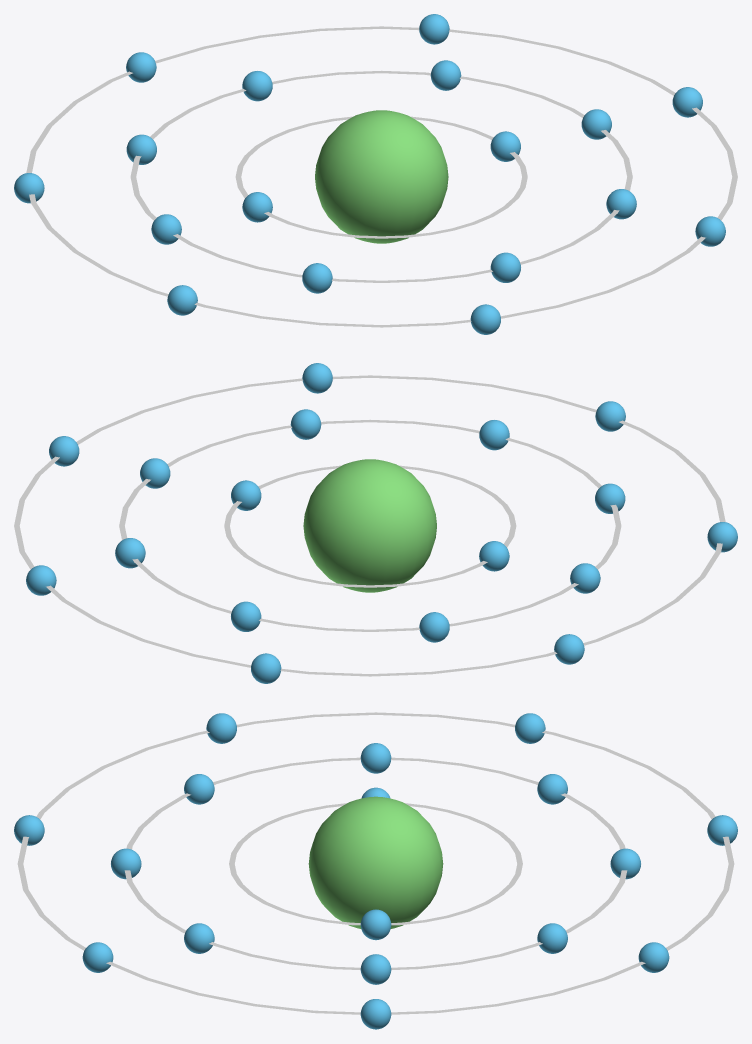
File: chlorine_atom.glb
3 renders of one model, top to bottom at view 1: azimuth 30°, elevation 25°; view 2: azimuth 150°, elevation 25°; view 3: azimuth 270°, elevation 25°, orthographic.
Parts seen in each view (by area): view 1: nucleus_node, shell_ring_2, shell_ring_1, shell_ring_0, electron_node_1_7, electron_node_2_6, electron_node_1_6, electron_node_1_3, electron_node_2_2, electron_node_2_3, electron_node_1_2, electron_node_2_5 (+9 smaller); view 2: nucleus_node, shell_ring_2, shell_ring_1, shell_ring_0, electron_node_1_1, electron_node_2_1, electron_node_1_2, electron_node_1_5, electron_node_2_5, electron_node_2_4, electron_node_1_6, electron_node_2_2 (+9 smaller); view 3: nucleus_node, shell_ring_2, shell_ring_1, shell_ring_0, electron_node_0_0, electron_node_1_0, electron_node_1_4, electron_node_2_0, electron_node_2_3, electron_node_2_4, electron_node_2_1, electron_node_2_6 (+8 smaller).
Part boxes in pixels (x1,y1,x2,y2): nucleus_node: [315, 110, 448, 243]; shell_ring_2: [26, 26, 737, 327]; shell_ring_1: [130, 70, 632, 282]; shell_ring_0: [235, 116, 527, 238]; electron_node_1_7: [430, 60, 461, 90]; electron_node_2_6: [419, 14, 449, 44]; electron_node_1_6: [242, 71, 272, 101]; electron_node_1_3: [302, 263, 332, 293]; electron_node_2_2: [470, 304, 500, 334]; electron_node_2_3: [167, 285, 197, 315]; electron_node_1_2: [490, 252, 520, 282]; electron_node_2_5: [126, 52, 156, 82]; nucleus_node: [303, 459, 436, 592]; shell_ring_2: [14, 375, 725, 676]; shell_ring_1: [119, 419, 621, 631]; shell_ring_0: [224, 465, 516, 587]; electron_node_1_1: [290, 409, 321, 439]; electron_node_2_1: [302, 363, 332, 393]; electron_node_1_2: [479, 420, 509, 450]; electron_node_1_5: [419, 612, 449, 642]; electron_node_2_5: [251, 653, 281, 683]; electron_node_2_4: [554, 634, 584, 664]; electron_node_1_6: [231, 601, 261, 631]; electron_node_2_2: [595, 401, 625, 431]; nucleus_node: [308, 796, 443, 928]; shell_ring_2: [17, 712, 734, 1014]; shell_ring_1: [124, 757, 627, 969]; shell_ring_0: [229, 803, 522, 925]; electron_node_0_0: [360, 909, 391, 940]; electron_node_1_0: [360, 954, 391, 984]; electron_node_1_4: [360, 743, 391, 773]; electron_node_2_0: [360, 999, 391, 1029]; electron_node_2_3: [206, 713, 236, 743]; electron_node_2_4: [515, 713, 545, 743]; electron_node_2_1: [82, 942, 113, 972]; electron_node_2_6: [638, 942, 669, 972].
Bounding box in the file's own units: 3.8 × 0.7 × 3.77.
